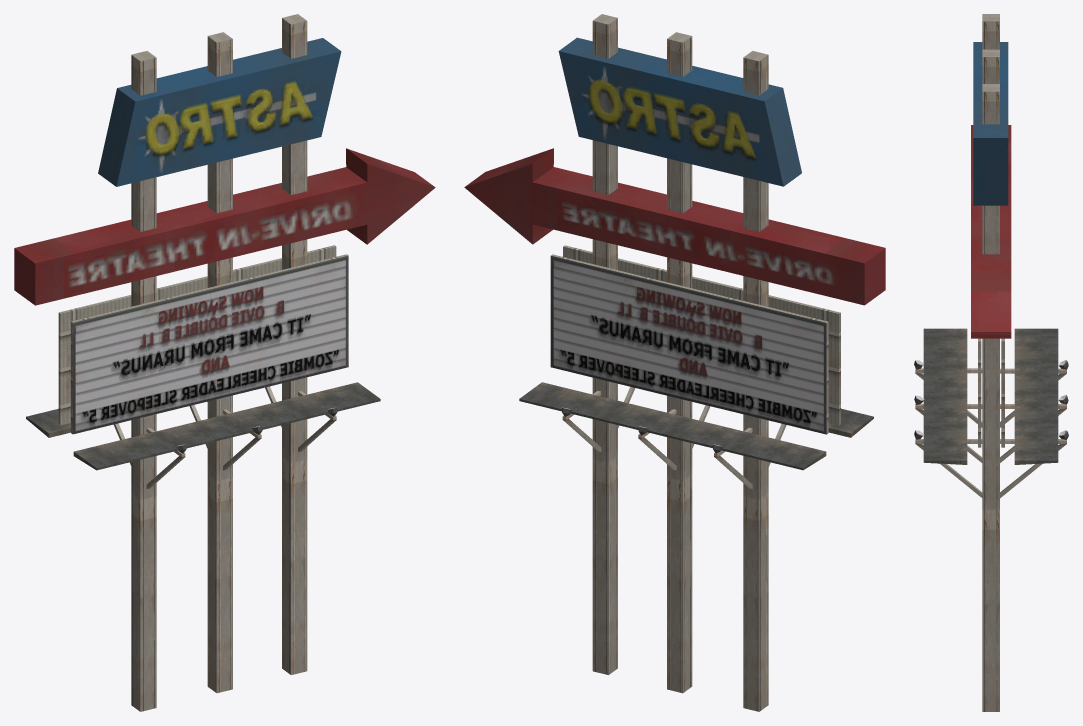
File: drvin_sign.obj
3 renders of one model, left to right at view 1: azimuth 30°, elevation 25°; view 2: azimuth 150°, elevation 25°; view 3: azimuth 270°, elevation 25°, orthographic. The views are drawn at different scales.
Parts seen in each view (by area): view 1: drvin_sign; view 2: drvin_sign; view 3: drvin_sign.
Boxes of the visible parts, left/top/right/bottom form: drvin_sign: left=14, top=14, right=435, bottom=711; drvin_sign: left=464, top=14, right=885, bottom=711; drvin_sign: left=914, top=14, right=1068, bottom=711.
Bounding box in the file's own units: 8.31 × 12.9 × 2.92.
Materials: 6 (6 with a texture image).
